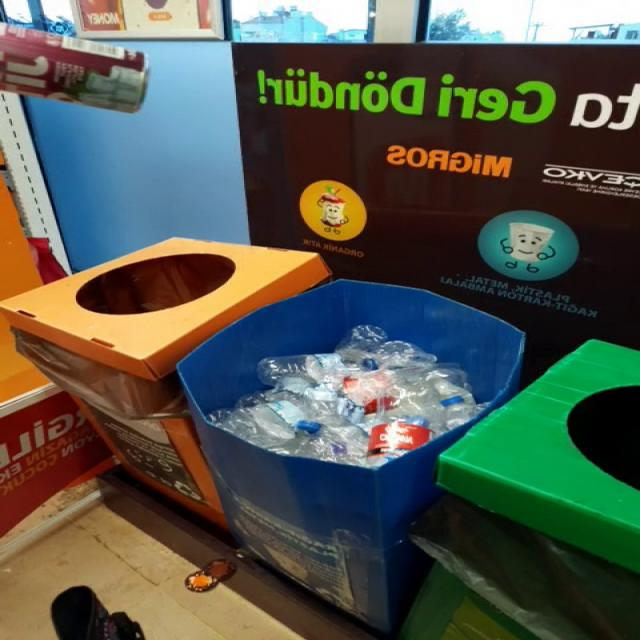bin: (2, 239, 525, 634), (177, 280, 525, 634)
metal: (0, 24, 144, 112)
